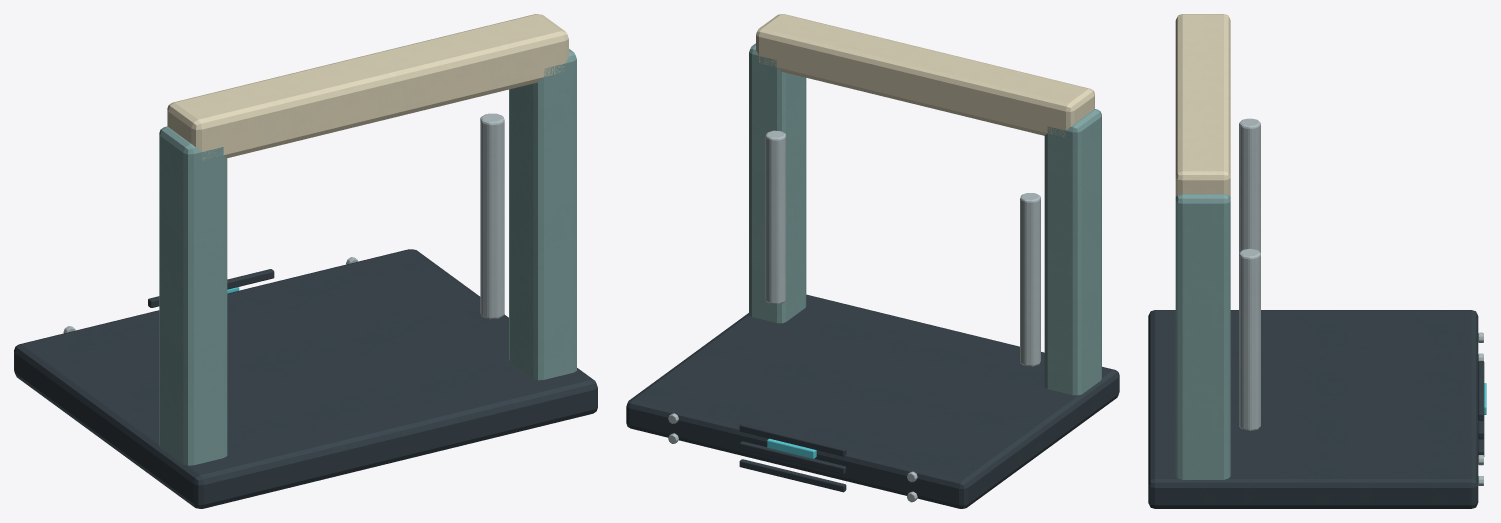
File: repair_dock.glb
3 views of the same model, side by side, from view 1: azimuth 30°, elevation 25°; view 2: azimuth 150°, elevation 25°; view 3: azimuth 270°, elevation 25° (orthographic). The views are drawn at different scales.
Visible parts, largest first — view 1: Root; view 2: Root; view 3: Root.
Part boxes in pixels (bbox=[...]): Root: bbox=[14, 14, 597, 508]; Root: bbox=[626, 14, 1119, 508]; Root: bbox=[1148, 14, 1486, 508].
Size of the model in its own units: 1.5 by 1.36 by 1.23.
1 material, 1 textured.
